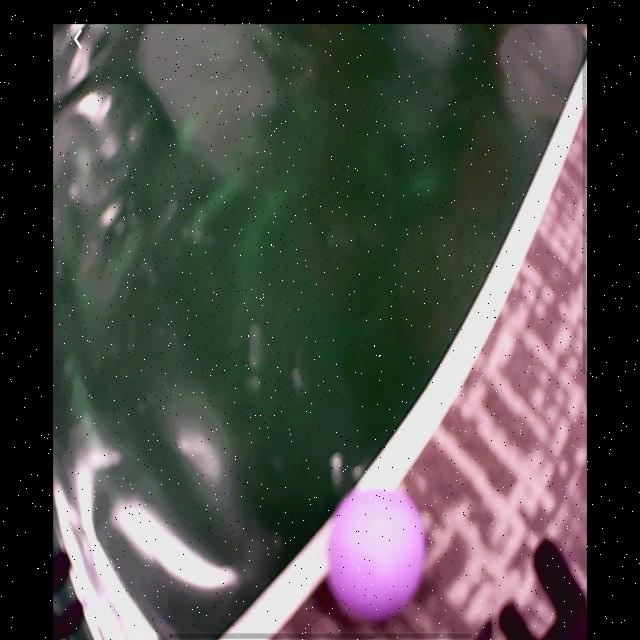ball: (328, 486, 424, 622)
